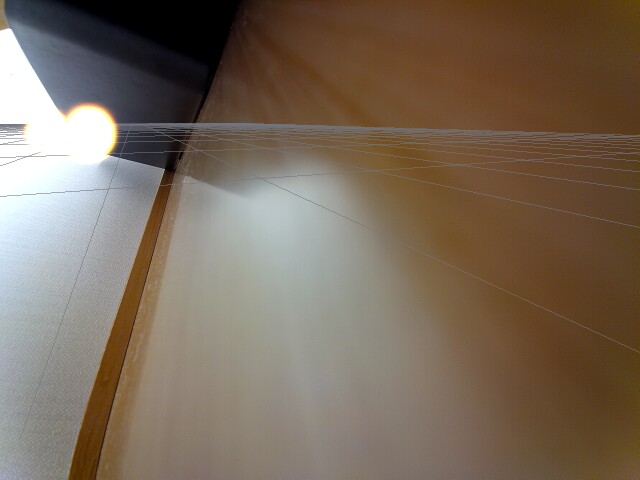fire: (59, 99, 121, 164), (20, 114, 61, 151)
